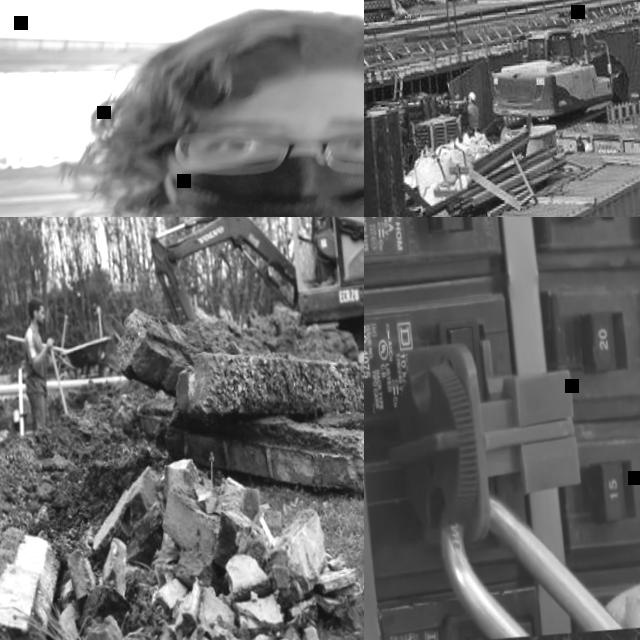Hardhat: (468, 92, 475, 100)
Mask: (158, 146, 364, 217)
NO-Hardhat: (119, 0, 364, 131), (26, 295, 42, 309)
NO-Mask: (36, 312, 44, 323)
NO-Safety Vest: (19, 327, 48, 395)
Person: (0, 0, 364, 217), (16, 294, 60, 434), (304, 217, 360, 288), (463, 92, 480, 136)
Safety Vest: (466, 104, 478, 129)
machinery: (139, 217, 364, 387), (484, 18, 630, 122)
